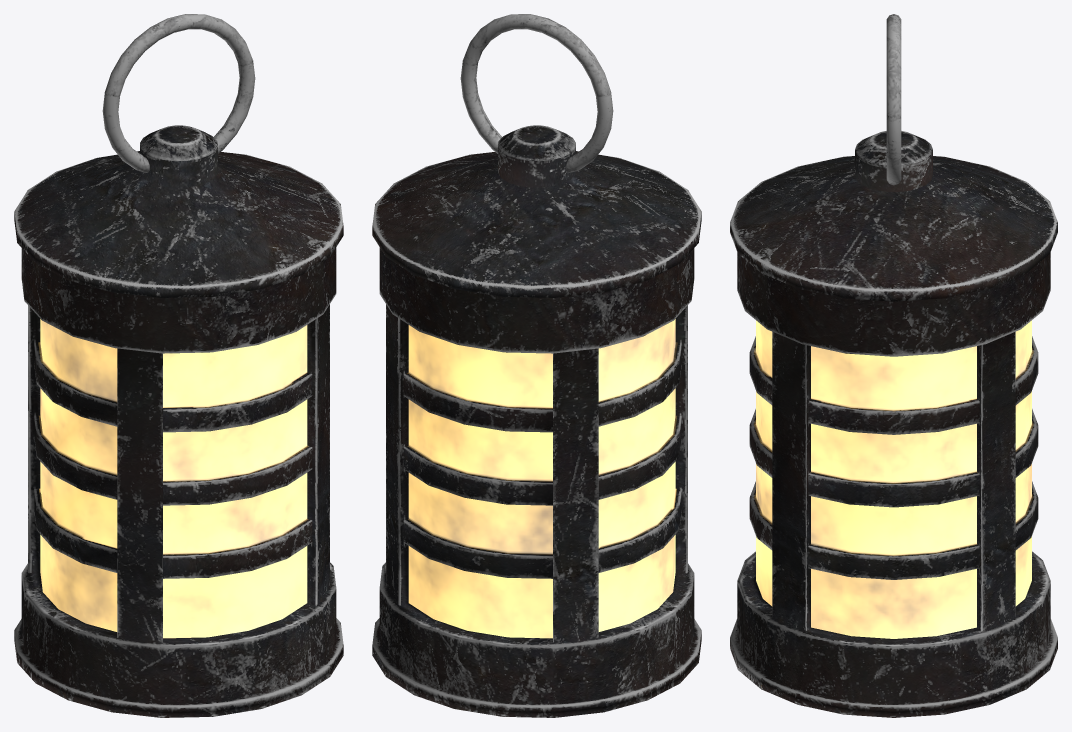
The picture shows the model from 3 angles, left to right: view 1: azimuth 30°, elevation 25°; view 2: azimuth 150°, elevation 25°; view 3: azimuth 270°, elevation 25°; orthographic projection.
Parts seen in each view (by area): view 1: Lantern_low, Lanter_Handle_low; view 2: Lantern_low, Lanter_Handle_low; view 3: Lantern_low, Lanter_Handle_low.
Part boxes in pixels (x1,y1,x2,y2): Lantern_low: (14,125,343,717); Lanter_Handle_low: (102,14,255,172); Lantern_low: (372,125,701,717); Lanter_Handle_low: (460,14,613,172); Lantern_low: (730,131,1057,717); Lanter_Handle_low: (886,14,901,185).
Bounding box in the file's own units: 4.19 × 8.82 × 4.19.
Materials: 1 (1 with a texture image).
